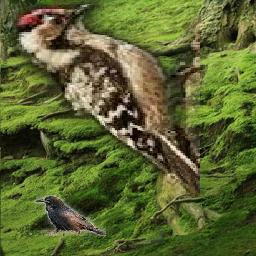Crow: (34, 196, 106, 237)
Woodpecker: (12, 1, 200, 198)
